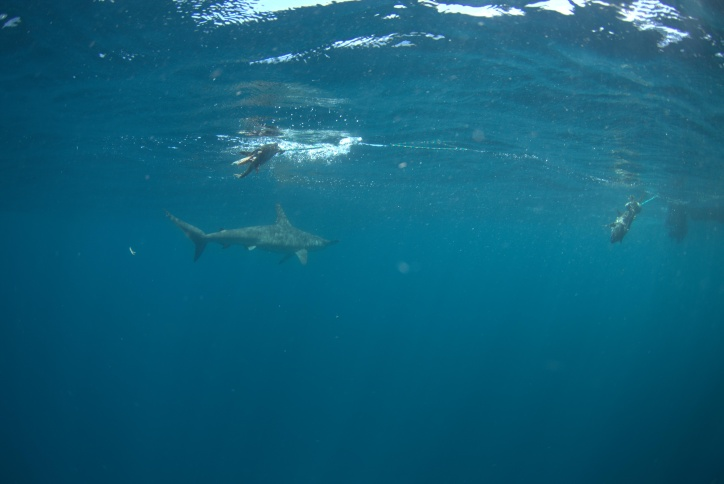Hammer: (170, 199, 344, 282)
